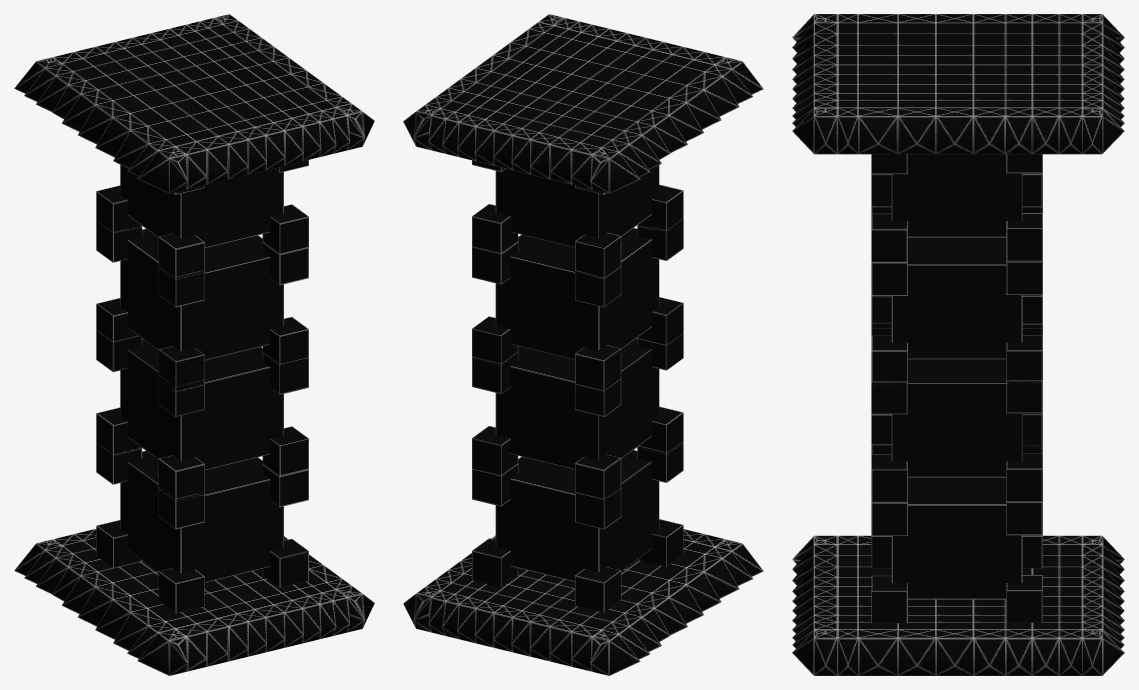
The model's file is pillar plat.fbx.
3 views of the same model, side by side, from view 1: azimuth 30°, elevation 25°; view 2: azimuth 150°, elevation 25°; view 3: azimuth 270°, elevation 25° (orthographic). The views are drawn at different scales.
Visible parts, largest first — view 1: group8_pasted__group1_pasted__pasted__pCube2; view 2: group8_pasted__group1_pasted__pasted__pCube2; view 3: group8_pasted__group1_pasted__pasted__pCube2.
Part boxes in pixels (x1=…): group8_pasted__group1_pasted__pasted__pCube2: x1=14, y1=14, x2=374, y2=675; group8_pasted__group1_pasted__pasted__pCube2: x1=403, y1=14, x2=763, y2=675; group8_pasted__group1_pasted__pasted__pCube2: x1=792, y1=14, x2=1124, y2=675.
Bounding box in the file's own units: 7.06 × 14.69 × 7.91.
